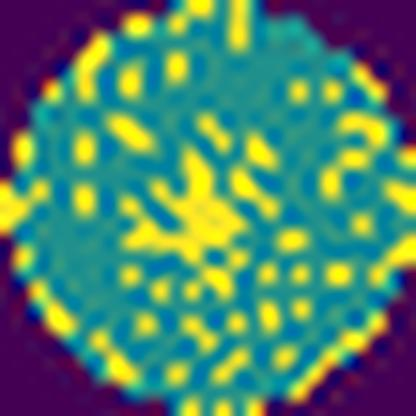Center: (114, 147, 254, 307)
